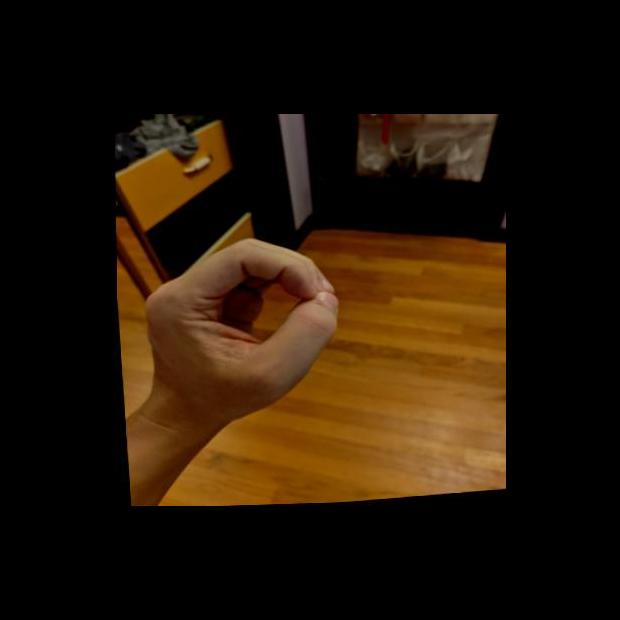N: (134, 228, 351, 434)
